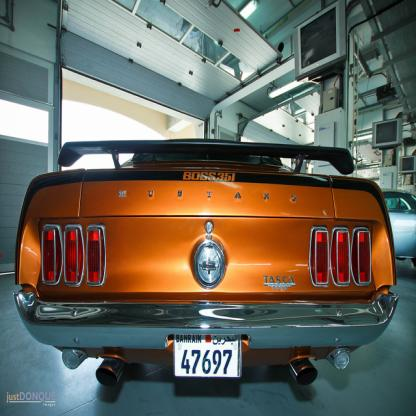Car: (26, 132, 402, 399), (384, 188, 416, 269)
